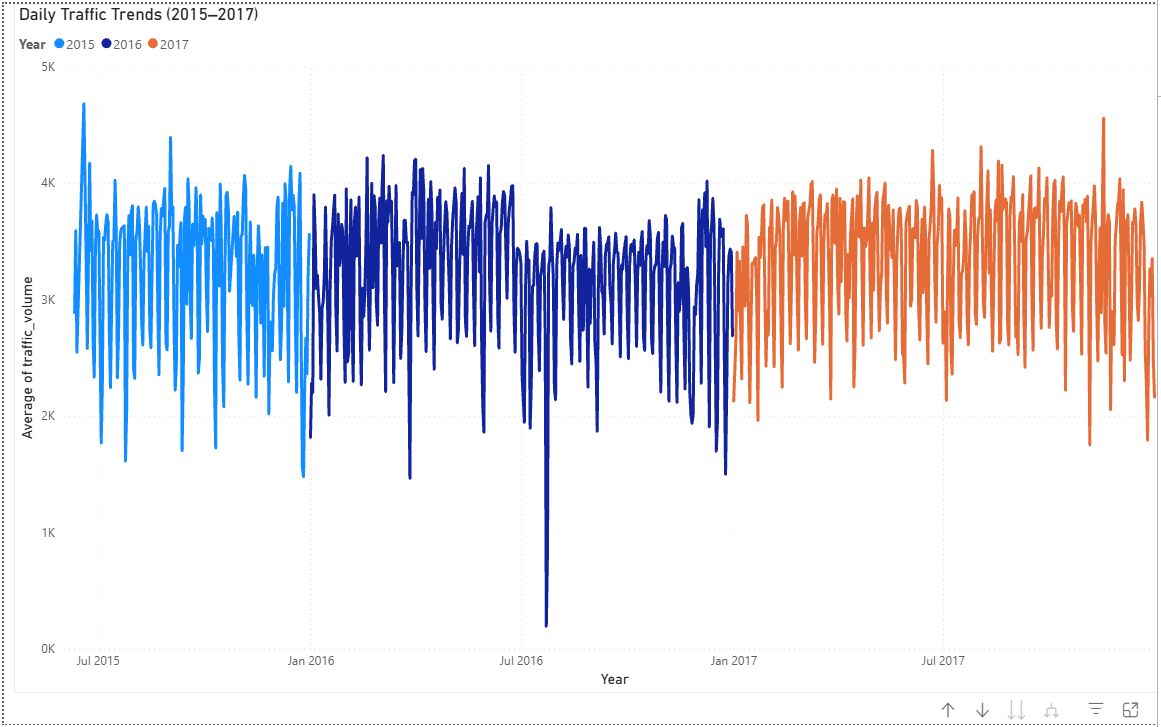

What the dashboard file says about the page in this screenshot:
{"tool":"powerbi","page":{"name":"Daily Traffic Trends - 2015-2017","canvas":[1280,720],"ordinal":0},"visuals":[{"type":"lineChart","title":"Daily Traffic Trends (2015–2017)","fields":{"Y":["Avg(Metro_Interstate_Traffic_Volume.traffic_volume)"],"Series":["Metro_Interstate_Traffic_Volume.Year"],"Category":["Metro_Interstate_Traffic_Volume.Date.Variation.Date Hierarchy.Year","Metro_Interstate_Traffic_Volume.Date.Variation.Date Hierarchy.Quarter","Metro_Interstate_Traffic_Volume.Date.Variation.Date Hierarchy.Month","Metro_Interstate_Traffic_Volume.Date.Variation.Date Hierarchy.Day"]},"box":[10.1,0,1167.7,688.5],"z":0}]}

Visuals, with their boxes on the page's 1280x720 design canvas (x1, y1, x2, y2). These are canvas units, not pixel positions in the 1161x727 screenshot, which may show the page scaled, cropped or inside an application window:
"Daily Traffic Trends (2015–2017)" lineChart: detection(10, 0, 1178, 688)
